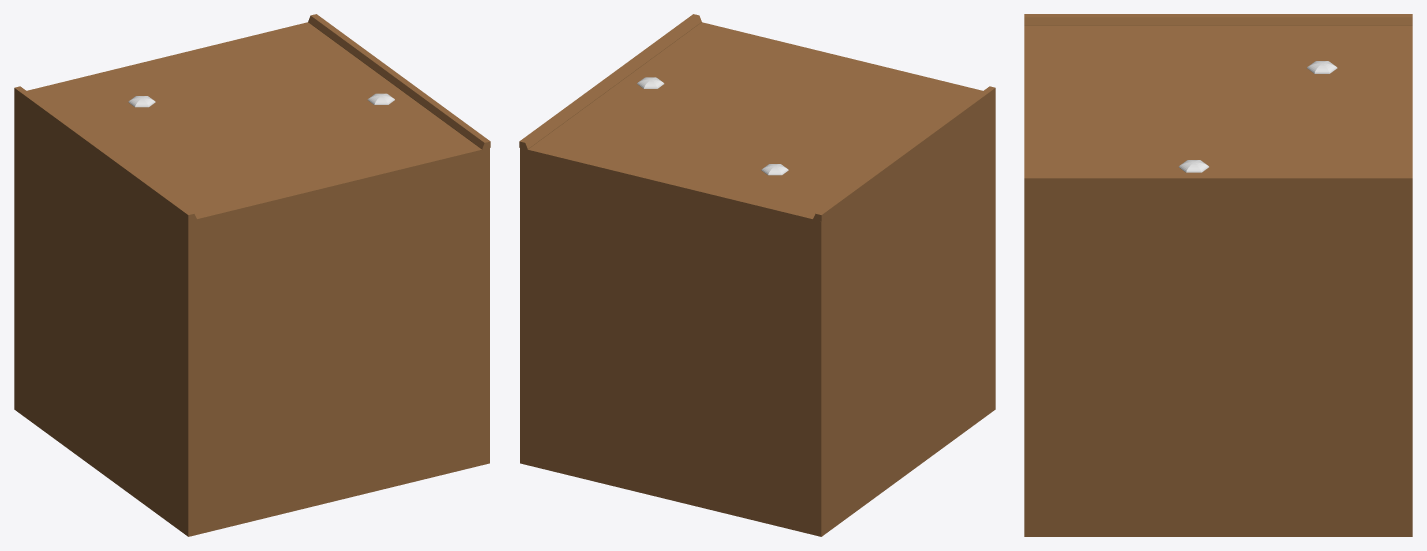
Rendered from dirt-road-2-transformed.glb.
3 views of the same model, side by side, from view 1: azimuth 30°, elevation 25°; view 2: azimuth 150°, elevation 25°; view 3: azimuth 270°, elevation 25° (orthographic). The views are drawn at different scales.
Parts seen in each view (by area): view 1: Cube.001; view 2: Cube.001; view 3: Cube.001, Sphere.002.
Boxes of the visible parts, <box> form: Cube.001: <box>14,14,490,536</box>; Cube.001: <box>519,14,995,536</box>; Cube.001: <box>1024,14,1412,536</box>; Sphere.002: <box>1179,61,1337,172</box>.
Bounding box in the file's own units: 2 × 2.04 × 2.
